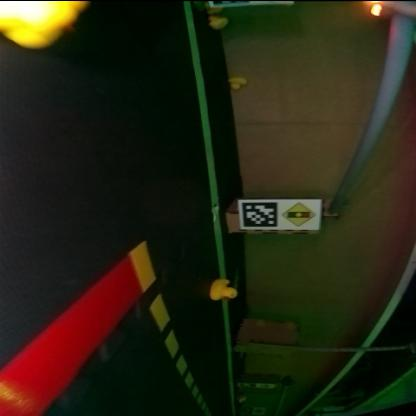Duckie: (211, 280, 238, 300), (210, 15, 228, 28), (228, 76, 247, 88), (239, 396, 247, 402)
QR code: (243, 201, 280, 227)
Signal sign: (283, 200, 317, 228)
Traffic light: (368, 1, 414, 16)
